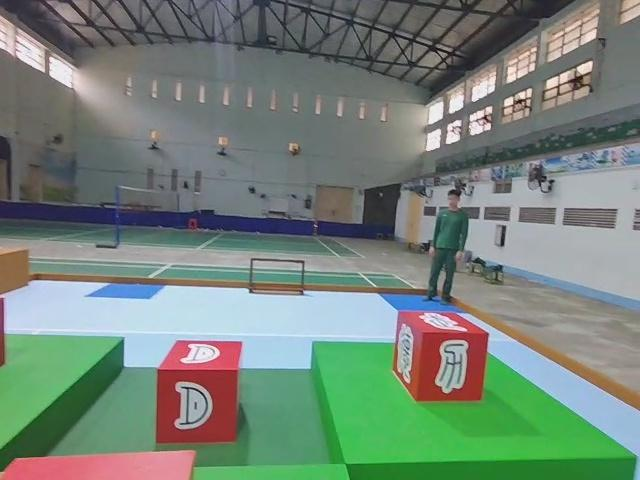R2 Fake: (392, 308, 492, 403)
R2 Real: (153, 337, 245, 447)
